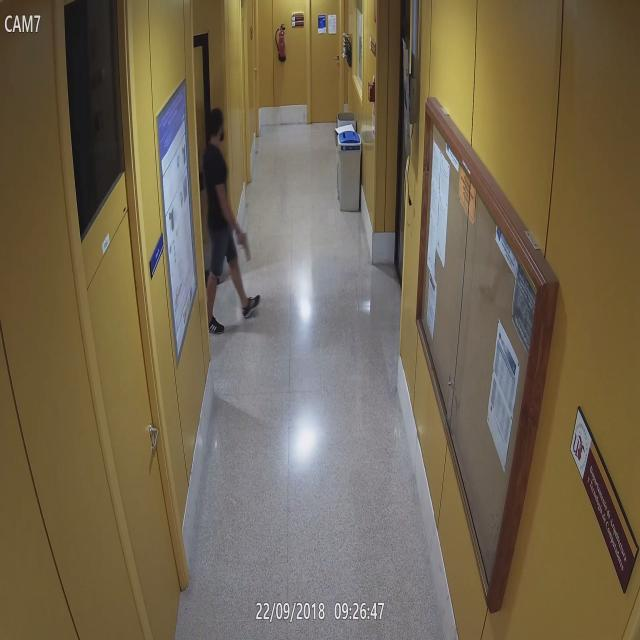Gun: (236, 229, 252, 261)
